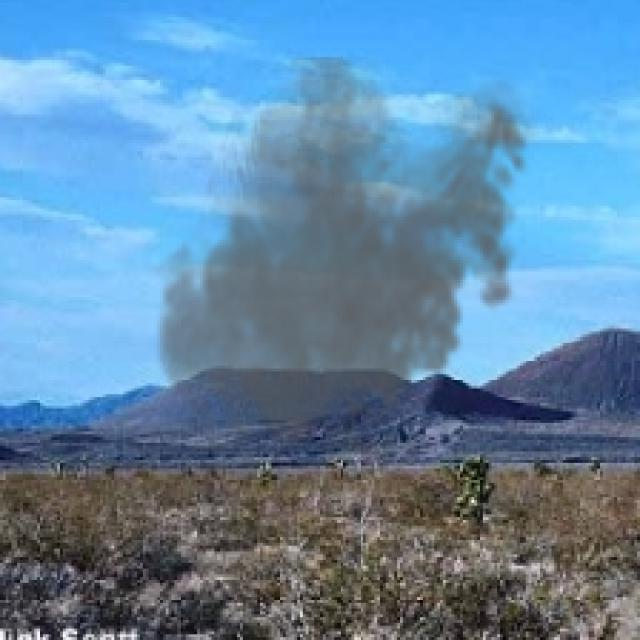Smoke: (148, 57, 540, 469)
